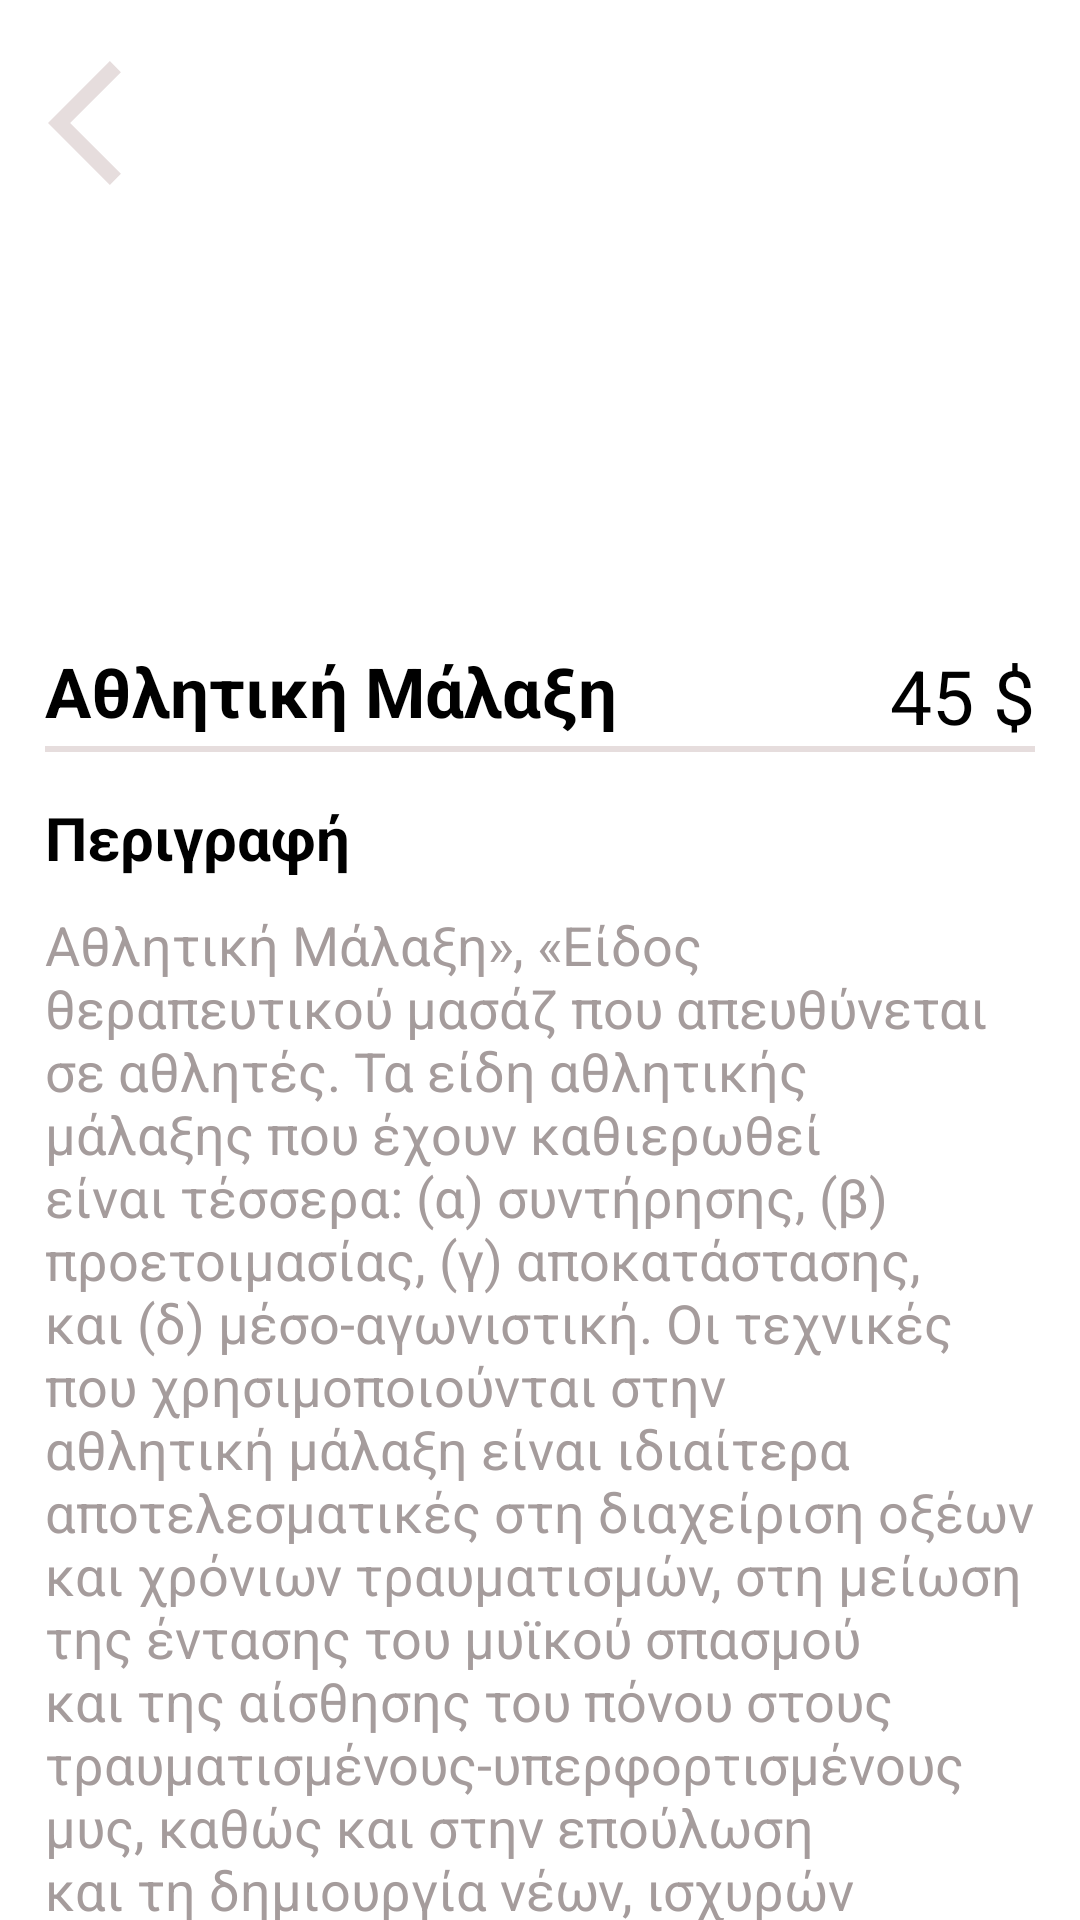

Locate icon controls on the screen. Image size 1080w x 1920h, boxes as box=[x1, y1, x2, y2].
back: box=[49, 62, 120, 184]
